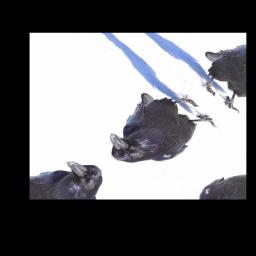Crow: (81, 76, 224, 181)
